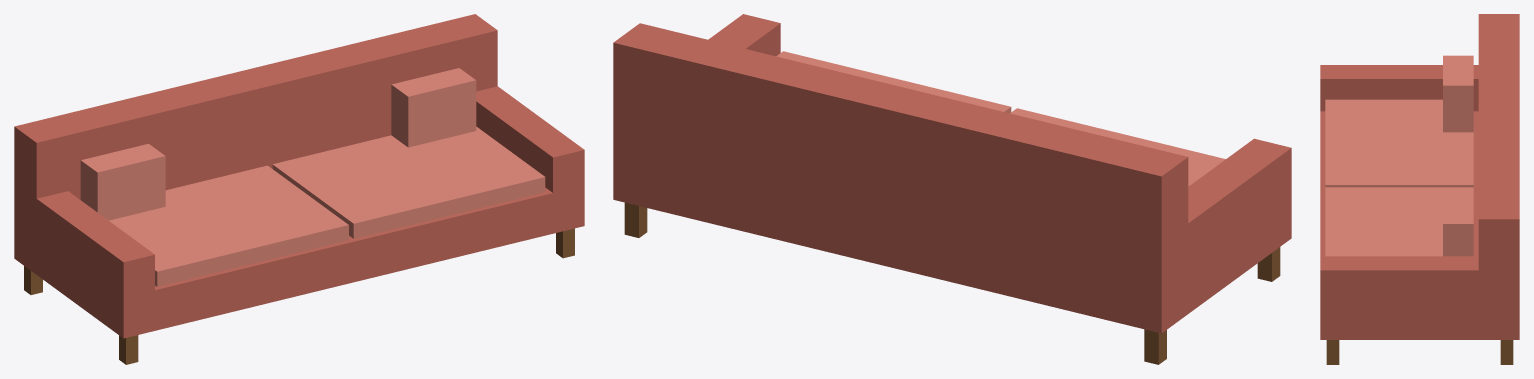
File: loungeSofaWide.glb
The picture shows the model from 3 angles, left to right: view 1: azimuth 30°, elevation 25°; view 2: azimuth 150°, elevation 25°; view 3: azimuth 270°, elevation 25°; orthographic projection. The views are drawn at different scales.
Parts seen in each view (by area): view 1: loungeSofaWide; view 2: loungeSofaWide; view 3: loungeSofaWide.
Boxes of the visible parts, x1,y1,x2,y2 form: loungeSofaWide: (14, 14, 584, 364); loungeSofaWide: (613, 14, 1291, 364); loungeSofaWide: (1320, 14, 1519, 364).
Bounding box in the file's own units: 1.9 × 0.64 × 0.78.
1 material, 1 textured.
